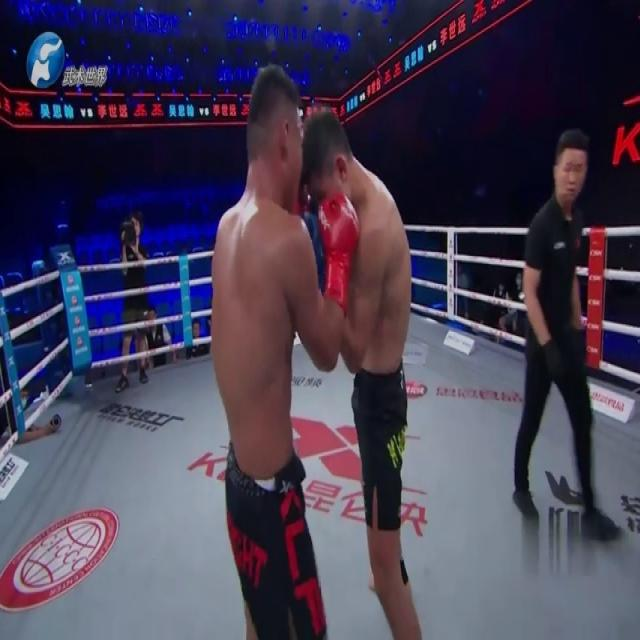fight: (191, 57, 449, 639)
non-fight: (491, 115, 614, 541), (114, 206, 150, 394)
